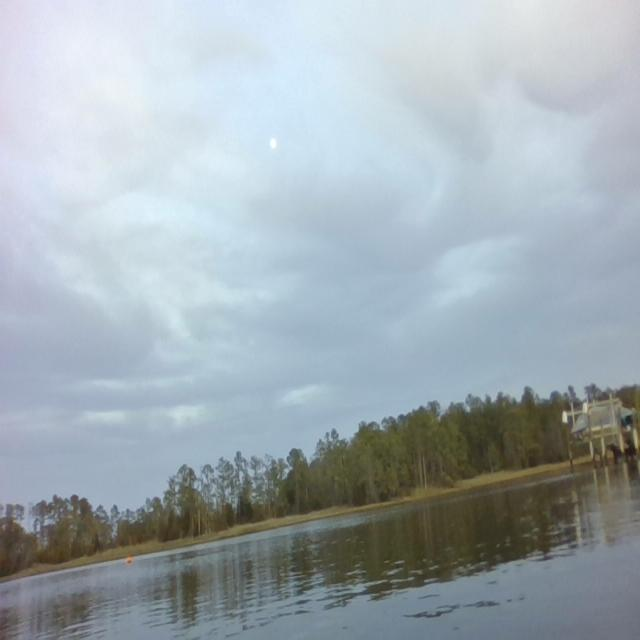Buoy: (126, 554, 132, 564)
